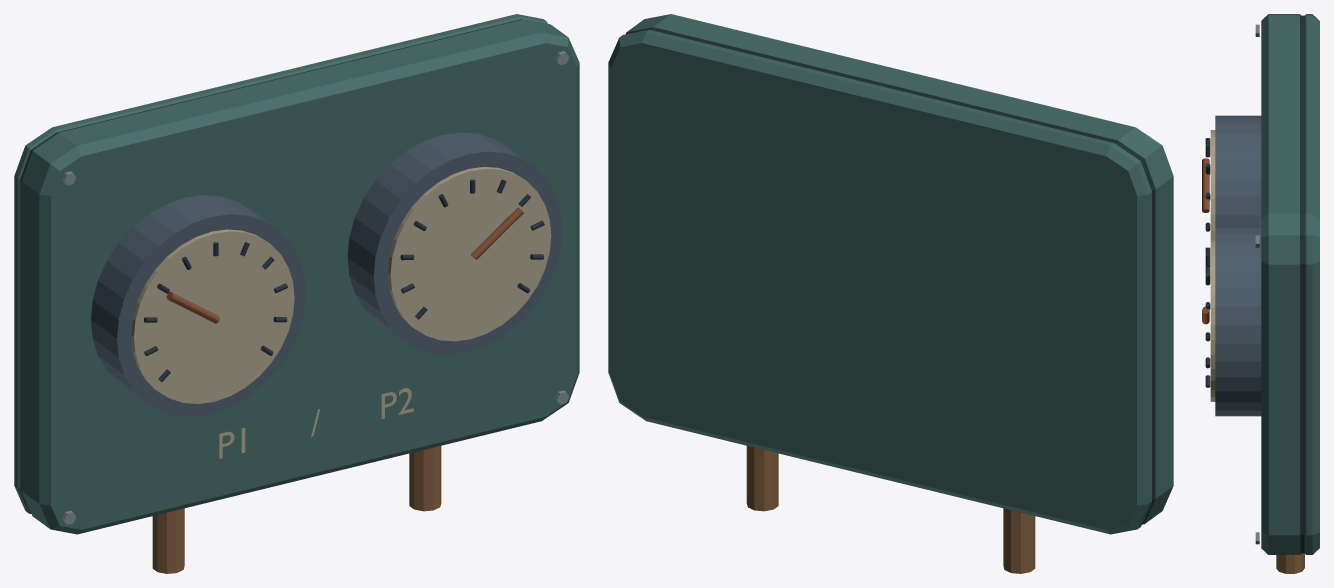
File: R-08_twin_manometer.glb
3 renders of one model, left to right at view 1: azimuth 30°, elevation 25°; view 2: azimuth 150°, elevation 25°; view 3: azimuth 270°, elevation 25°, orthographic. The views are drawn at different scales.
Visible parts, largest first — view 1: R-08_twin_manometer; view 2: R-08_twin_manometer; view 3: R-08_twin_manometer.
Boxes of the visible parts, bbox=[...] form: R-08_twin_manometer: bbox=[14, 14, 579, 573]; R-08_twin_manometer: bbox=[608, 14, 1173, 573]; R-08_twin_manometer: bbox=[1202, 14, 1319, 573].
Size of the model in its own units: 0.8 by 0.645 by 0.1725.
